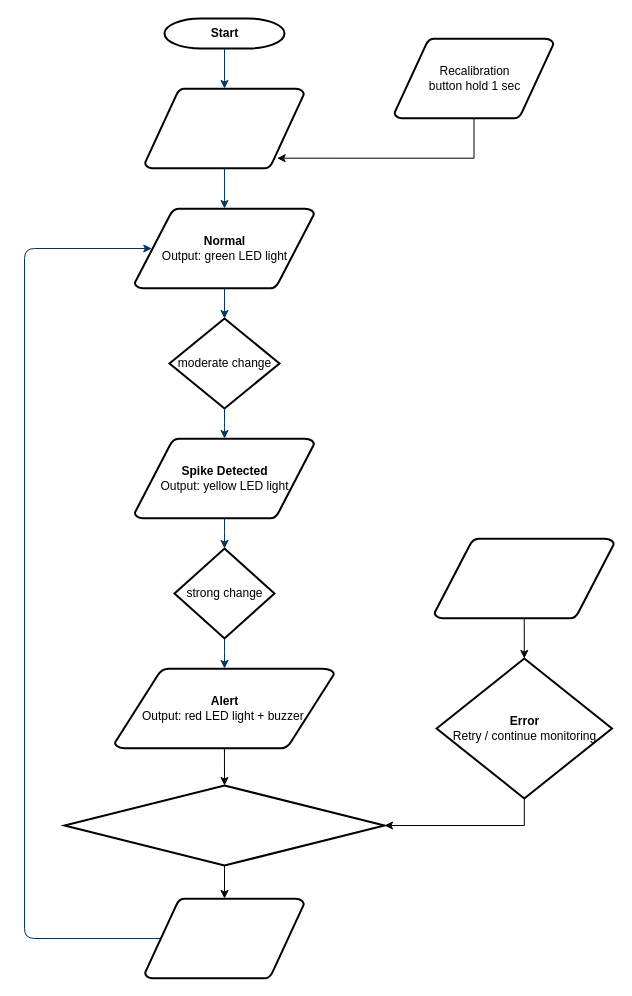
The diagram is 632 pixels wide and 996 high, and some of its shapes have lost their labels. The shapes that lost their labels are listed below. From the top down, each one's box as (x1, y1, x2, y2) in pixels, then its label:
(144, 87, 304, 169): Calibrating
(433, 537, 614, 619): Sensor/OLED error
(63, 784, 385, 866): readings below recovery threshold for 5 sec
(144, 897, 304, 979): Recovery
